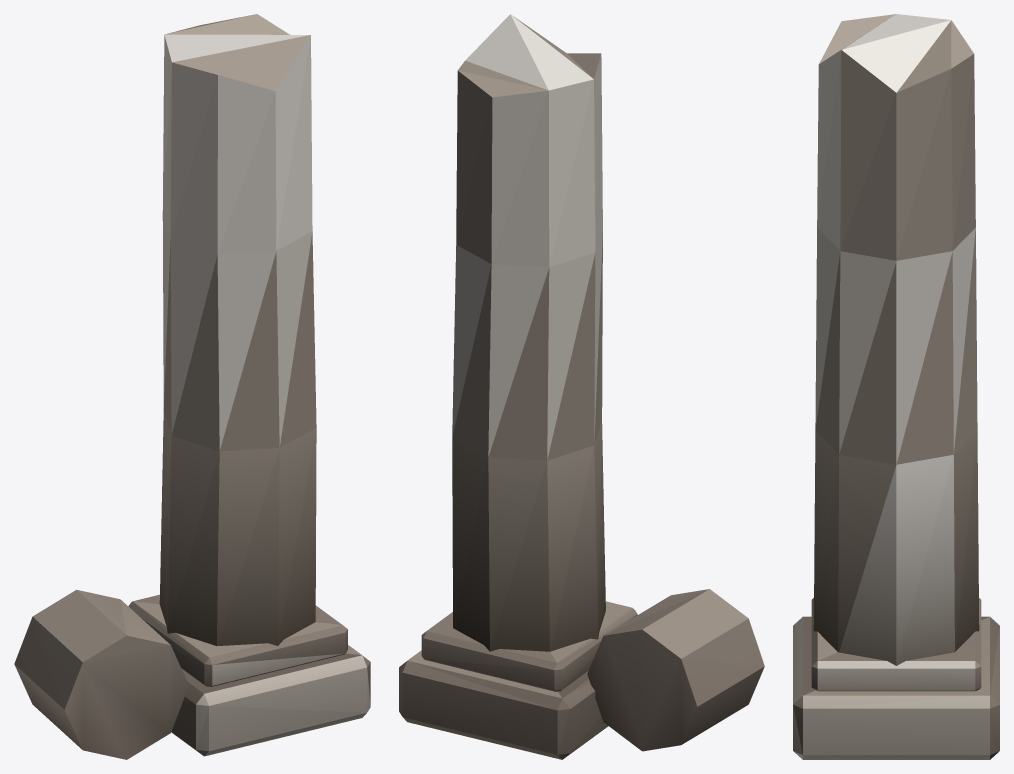
The model's file is ash_pillar.glb.
3 renders of one model, left to right at view 1: azimuth 30°, elevation 25°; view 2: azimuth 150°, elevation 25°; view 3: azimuth 270°, elevation 25°, orthographic. The views are drawn at different scales.
Visible parts, largest first — view 1: ca_ash_pillar; view 2: ca_ash_pillar; view 3: ca_ash_pillar.
Boxes of the visible parts, x1=… form: ca_ash_pillar: x1=14, y1=14, x2=370, y2=759; ca_ash_pillar: x1=399, y1=14, x2=764, y2=759; ca_ash_pillar: x1=793, y1=14, x2=999, y2=759.
Size of the model in its own units: 1.77 by 3.89 by 1.05.
Materials: 1 (1 with a texture image).
